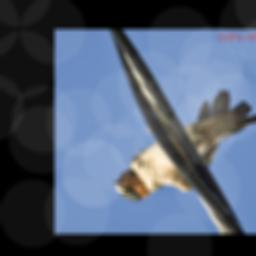Swallow: (111, 88, 256, 203)
